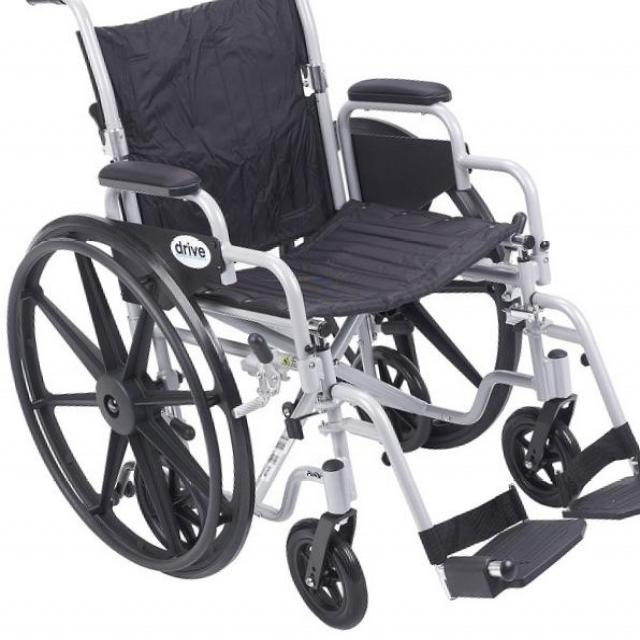wheelchair: (2, 0, 640, 631)
